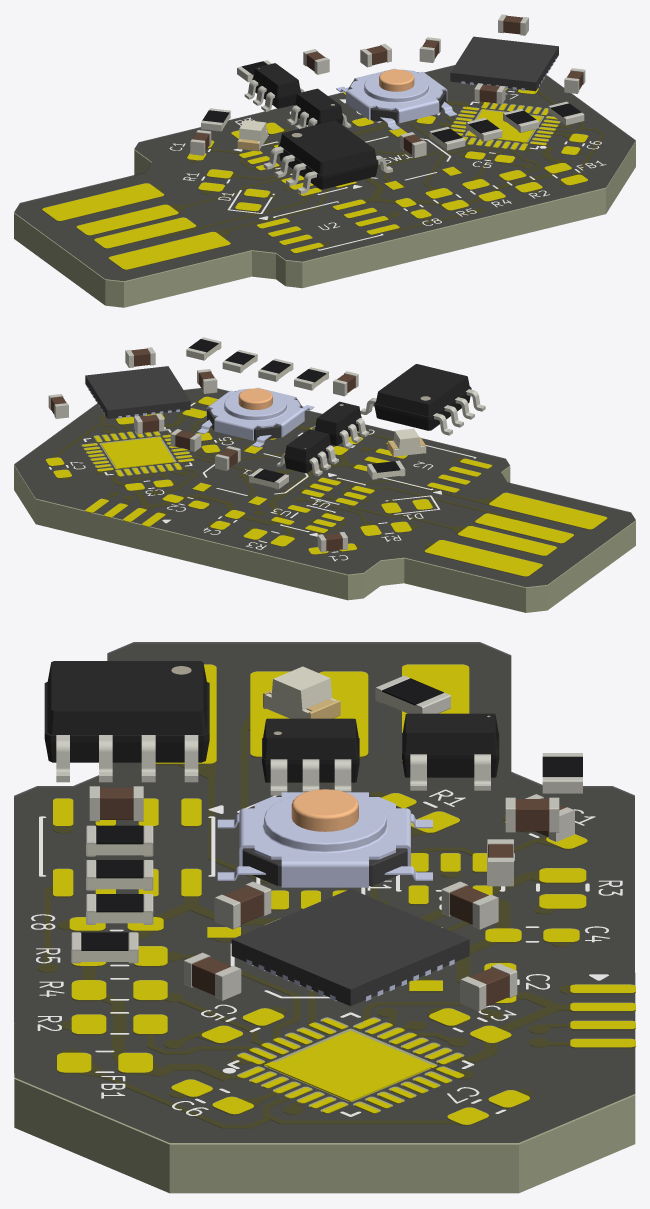
Rendered from 2FAK-V1C-PCB-Comp.glb.
3 views of the same model, one above another, from view 1: azimuth 30°, elevation 25°; view 2: azimuth 150°, elevation 25°; view 3: azimuth 270°, elevation 25° (orthographic). The views are drawn at different scales.
Parts seen in each view (by area): view 1: =>[0:1:1:23], =>[0:1:1:21], =>[0:1:1:18], =>[0:1:1:5], =>[0:1:1:7], =>[0:1:1:11], =>[0:1:1:9] (×8), =>[0:1:1:13] (×5), =>[0:1:1:19], =>[0:1:1:15], =>[0:1:1:17], =>[0:1:1:3]; view 2: =>[0:1:1:23], =>[0:1:1:21], =>[0:1:1:18], =>[0:1:1:5], =>[0:1:1:7], =>[0:1:1:11], =>[0:1:1:9] (×8), =>[0:1:1:13] (×6), =>[0:1:1:15], =>[0:1:1:19], =>[0:1:1:17], =>[0:1:1:3]; view 3: =>[0:1:1:23], =>[0:1:1:21], =>[0:1:1:18], =>[0:1:1:5], =>[0:1:1:11], =>[0:1:1:7], =>[0:1:1:9] (×7), =>[0:1:1:13] (×6), =>[0:1:1:17], =>[0:1:1:15], =>[0:1:1:19], =>[0:1:1:3].
Part boxes in pixels (x1,y1,x2,y2): =>[0:1:1:23]: [14, 66, 635, 307]; =>[0:1:1:21]: [14, 65, 635, 281]; =>[0:1:1:18]: [42, 88, 604, 269]; =>[0:1:1:5]: [263, 120, 392, 194]; =>[0:1:1:7]: [336, 68, 457, 130]; =>[0:1:1:11]: [450, 36, 558, 91]; =>[0:1:1:9] (×8): [190, 14, 585, 157]; =>[0:1:1:13] (×5): [201, 101, 584, 150]; =>[0:1:1:19]: [169, 91, 606, 250]; =>[0:1:1:15]: [244, 63, 304, 111]; =>[0:1:1:17]: [287, 88, 351, 129]; =>[0:1:1:3]: [237, 120, 267, 151]; =>[0:1:1:23]: [14, 389, 635, 612]; =>[0:1:1:21]: [14, 388, 635, 587]; =>[0:1:1:18]: [46, 396, 607, 576]; =>[0:1:1:5]: [360, 364, 485, 435]; =>[0:1:1:7]: [197, 387, 314, 447]; =>[0:1:1:11]: [85, 366, 190, 418]; =>[0:1:1:9] (×8): [48, 347, 358, 552]; =>[0:1:1:13] (×6): [186, 337, 405, 489]; =>[0:1:1:15]: [276, 429, 338, 476]; =>[0:1:1:19]: [49, 402, 476, 561]; =>[0:1:1:17]: [311, 401, 369, 448]; =>[0:1:1:3]: [387, 428, 426, 457]; =>[0:1:1:23]: [14, 644, 635, 1193]; =>[0:1:1:21]: [14, 642, 635, 1142]; =>[0:1:1:18]: [38, 664, 635, 1127]; =>[0:1:1:5]: [44, 661, 209, 782]; =>[0:1:1:11]: [231, 889, 469, 1006]; =>[0:1:1:7]: [217, 789, 432, 887]; =>[0:1:1:9] (×7): [89, 786, 559, 1011]; =>[0:1:1:13] (×6): [71, 675, 582, 963]; =>[0:1:1:17]: [262, 718, 359, 795]; =>[0:1:1:15]: [402, 713, 499, 790]; =>[0:1:1:19]: [31, 789, 622, 1116]; =>[0:1:1:3]: [263, 666, 340, 718].
Size of the model in its own units: 0.0352 by 0.00701 by 0.0185.
